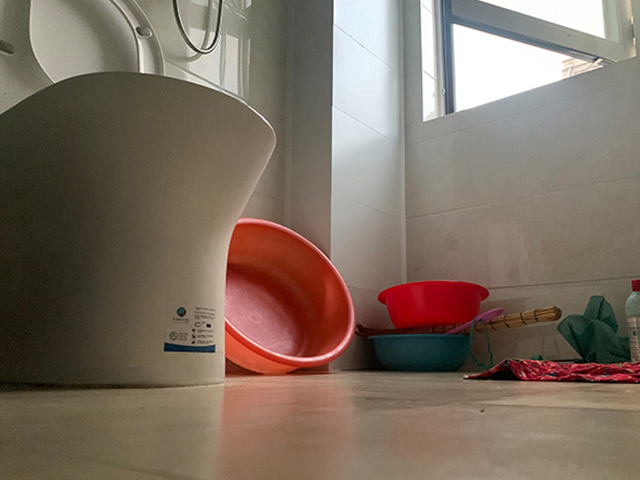closestool: (1, 1, 278, 391)
